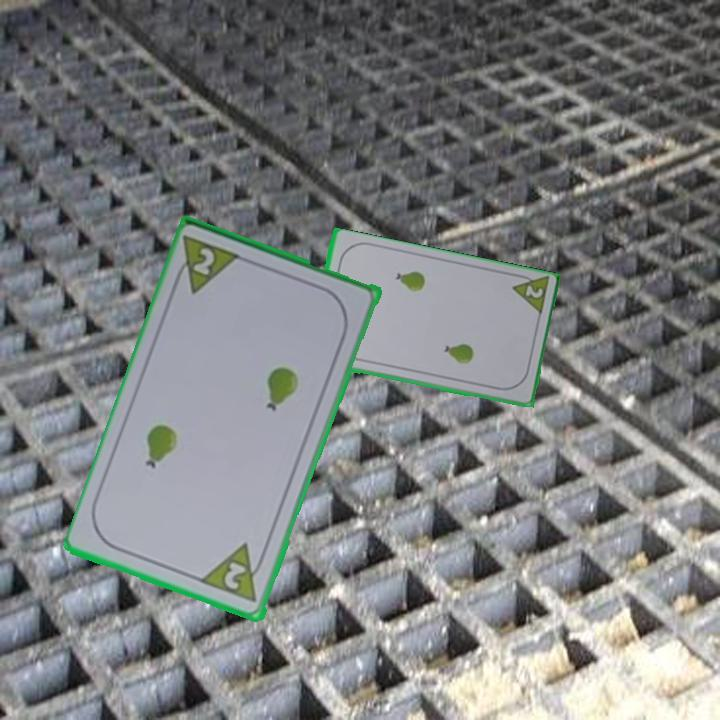2p: (169, 232, 245, 297), (198, 539, 270, 606), (507, 270, 552, 320)
